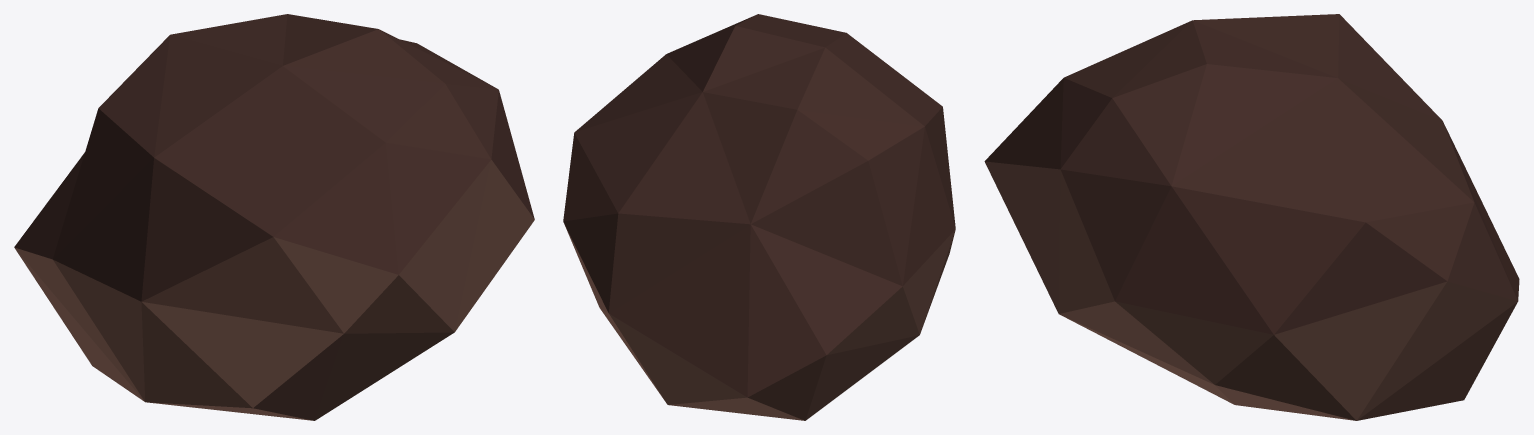
File: Brown_stone_013.fbx
The picture shows the model from 3 angles, left to right: view 1: azimuth 30°, elevation 25°; view 2: azimuth 150°, elevation 25°; view 3: azimuth 270°, elevation 25°; orthographic projection. The views are drawn at different scales.
Parts seen in each view (by area): view 1: Brown_stone_013; view 2: Brown_stone_013; view 3: Brown_stone_013.
Part boxes in pixels (bbox=[...]): Brown_stone_013: bbox=[14, 14, 534, 420]; Brown_stone_013: bbox=[563, 14, 955, 420]; Brown_stone_013: bbox=[984, 14, 1519, 420].
Size of the model in its own units: 248 by 271 by 217.
